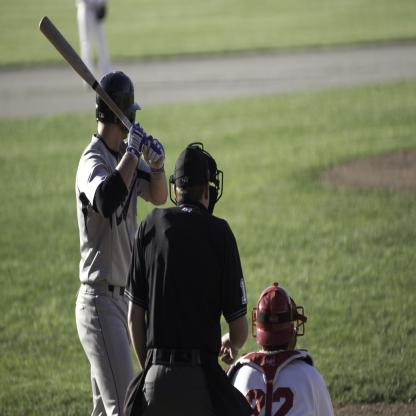Helmet: (170, 144, 224, 220), (251, 281, 306, 350), (94, 70, 141, 135)
